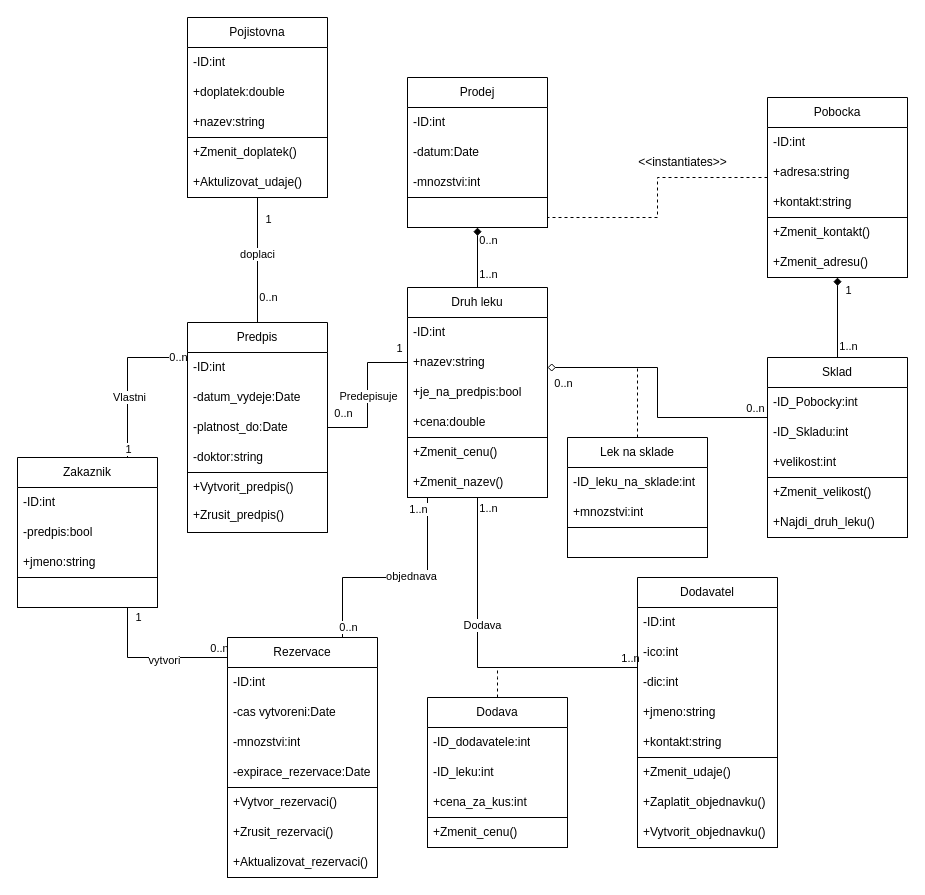
Some shapes in this 925 by 895 pixel diagram are drawn without their labels. Here are the shapes that lost their labels. From the top down, the centre of each, then its label:
At point (477, 212): "+Prijmout_platbu()".
At point (637, 542): "+Zmenit_mnozstvi()".
At point (87, 592): "+Zmenit_jmeno()".
